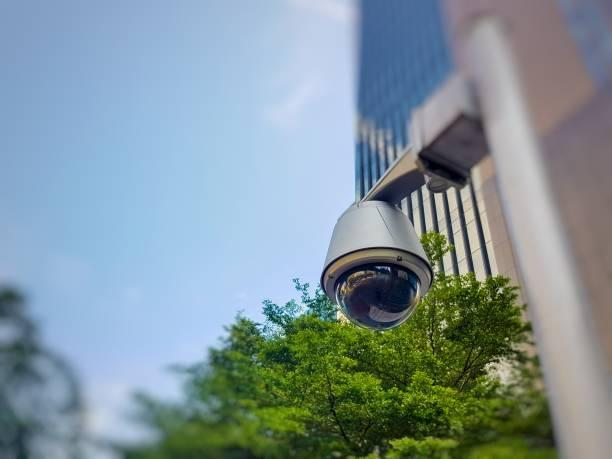camera: (276, 179, 465, 351)
